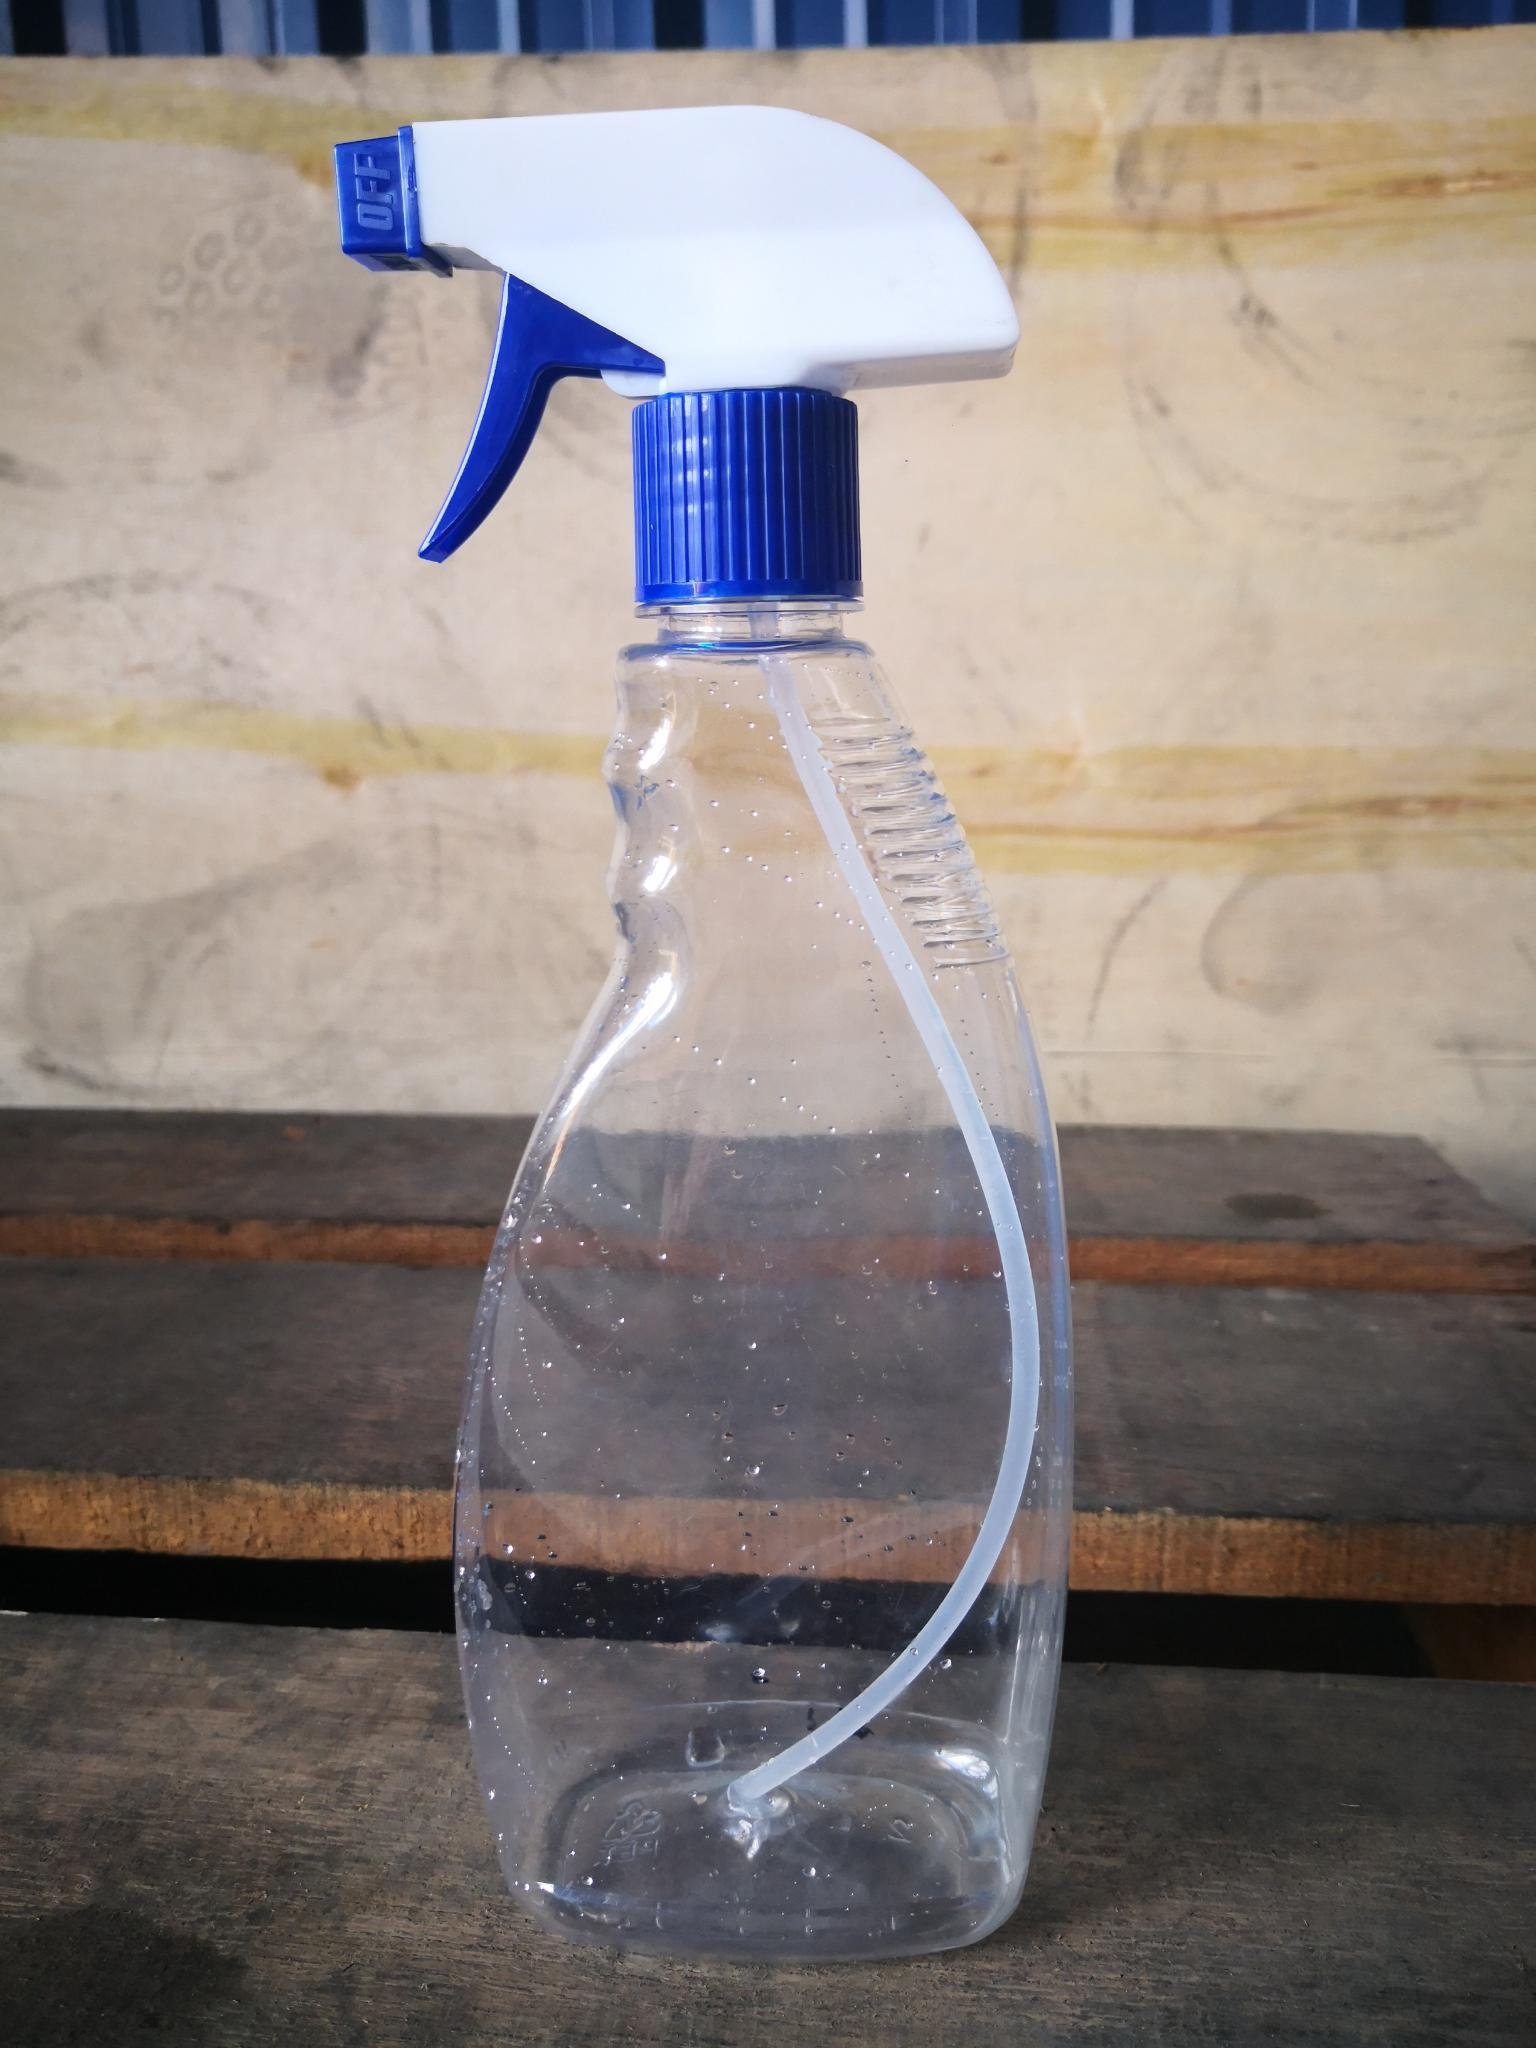plastic: (339, 103, 1060, 1959)
